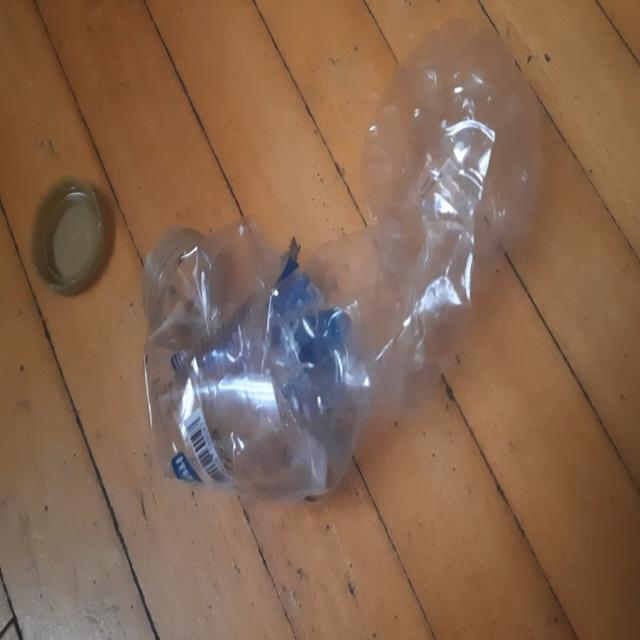Plastic: (142, 16, 541, 501)
